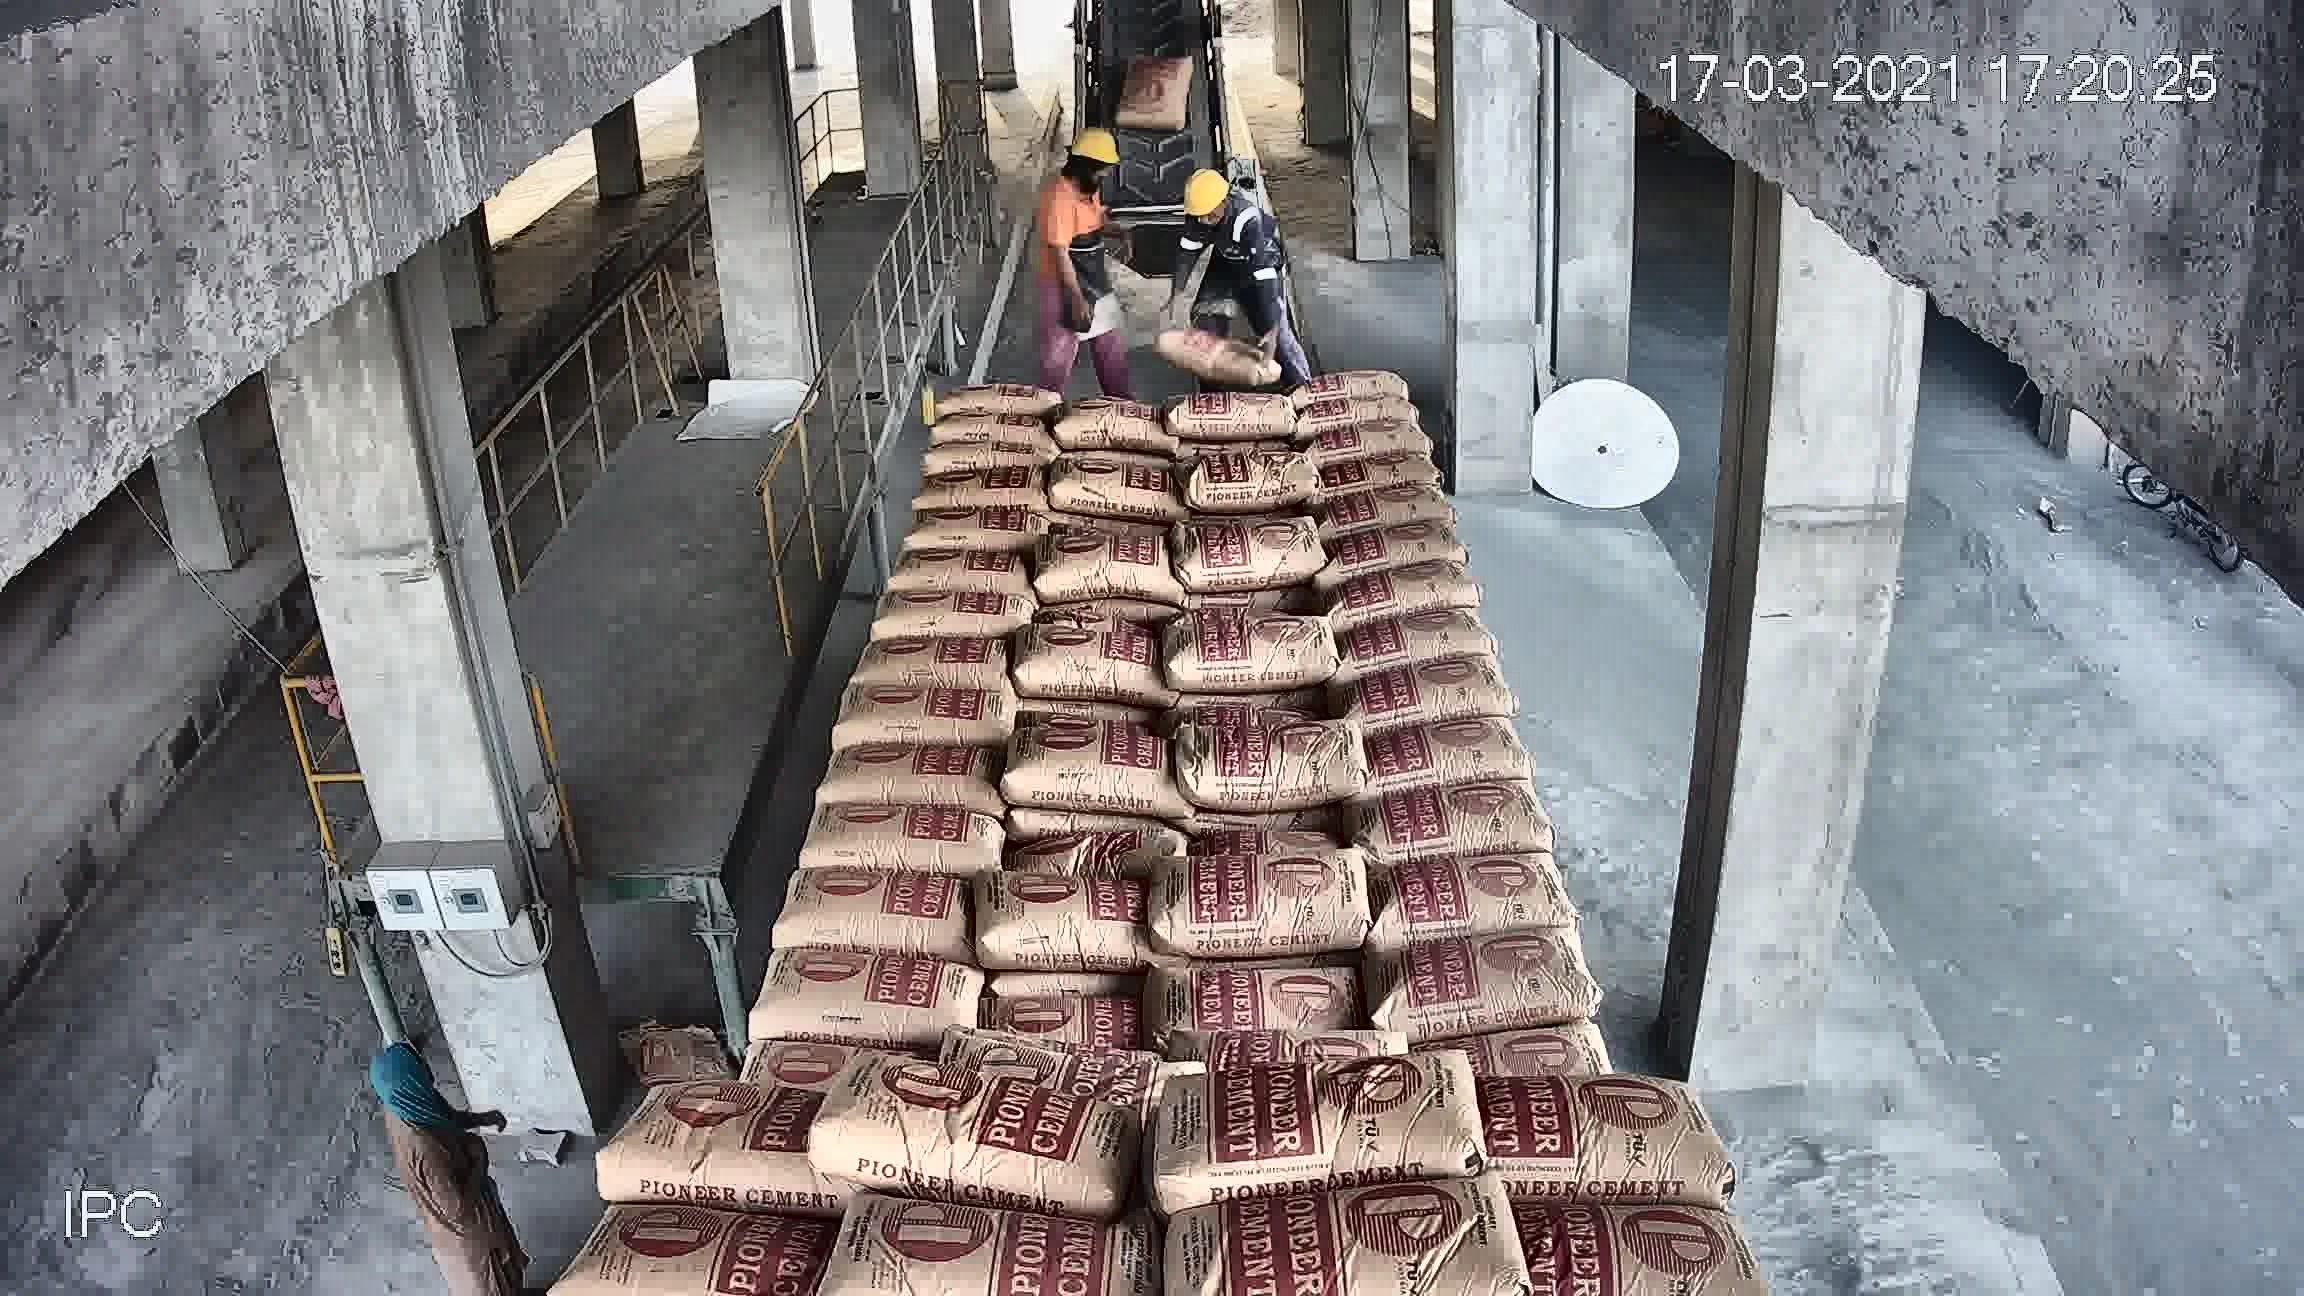bag: (1065, 139, 1207, 271)
bag_h: (1141, 1048, 1484, 1206), (805, 1071, 1125, 1223), (1161, 1163, 1519, 1296), (1130, 921, 1442, 1067), (858, 932, 1125, 1082), (1492, 1052, 1752, 1203), (785, 1188, 1143, 1296), (1154, 869, 1426, 1000), (1442, 956, 1671, 1105), (576, 1076, 820, 1214), (655, 853, 970, 957), (620, 967, 862, 1081), (1522, 1177, 1756, 1294), (543, 1218, 848, 1293), (1006, 777, 1166, 873), (1440, 889, 1597, 983), (991, 726, 1176, 804), (994, 665, 1166, 747), (1440, 836, 1600, 913), (967, 899, 1147, 964), (1127, 779, 1250, 867), (1146, 654, 1279, 731), (1412, 698, 1521, 790), (1423, 783, 1537, 869), (1160, 728, 1271, 793), (1431, 636, 1506, 715)
belt: (995, 47, 1305, 636)
